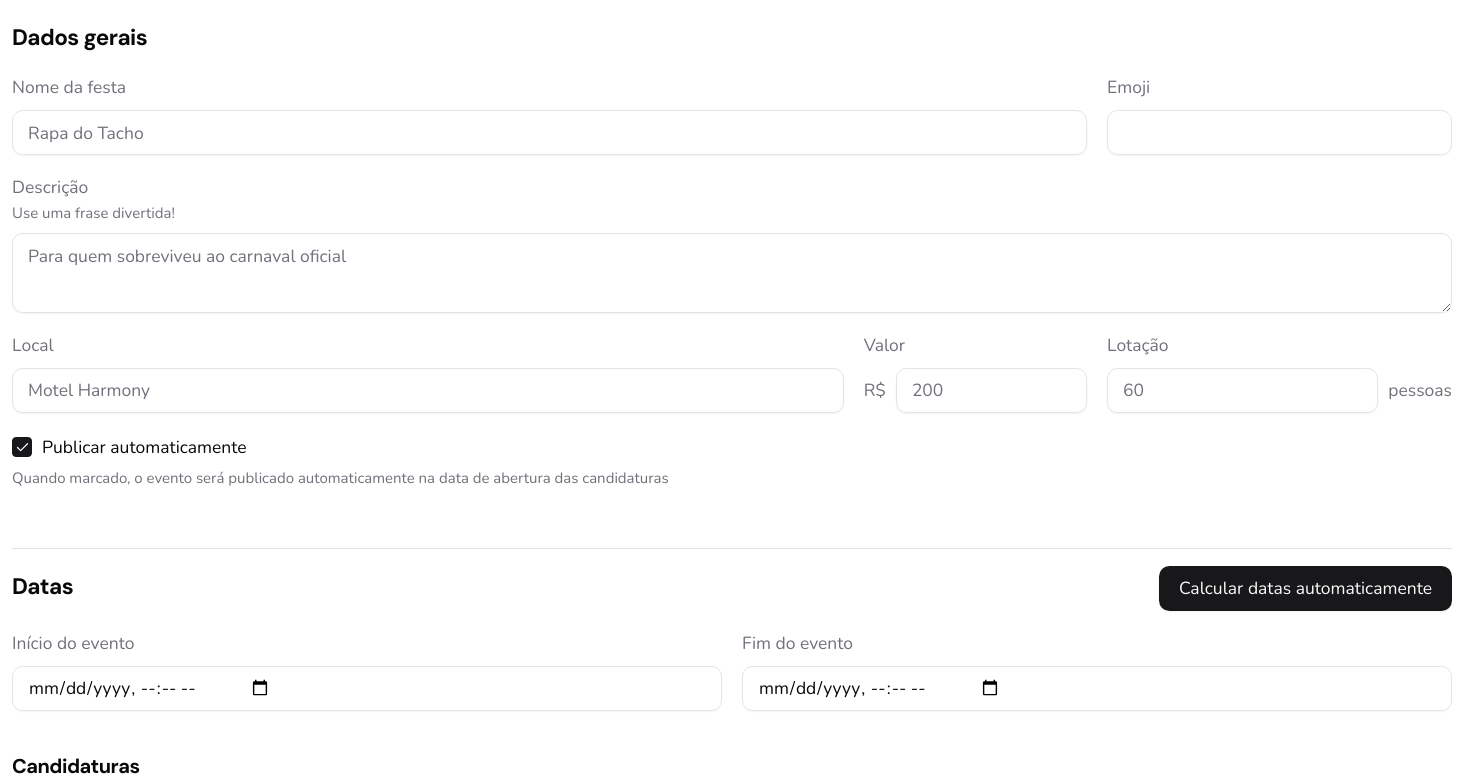
Test: EventForm › working the dates out › asks for a starting time before it works anything out
Click the button "Calcular datas automaticamente": (1305, 588) [1159,566,1452,610]
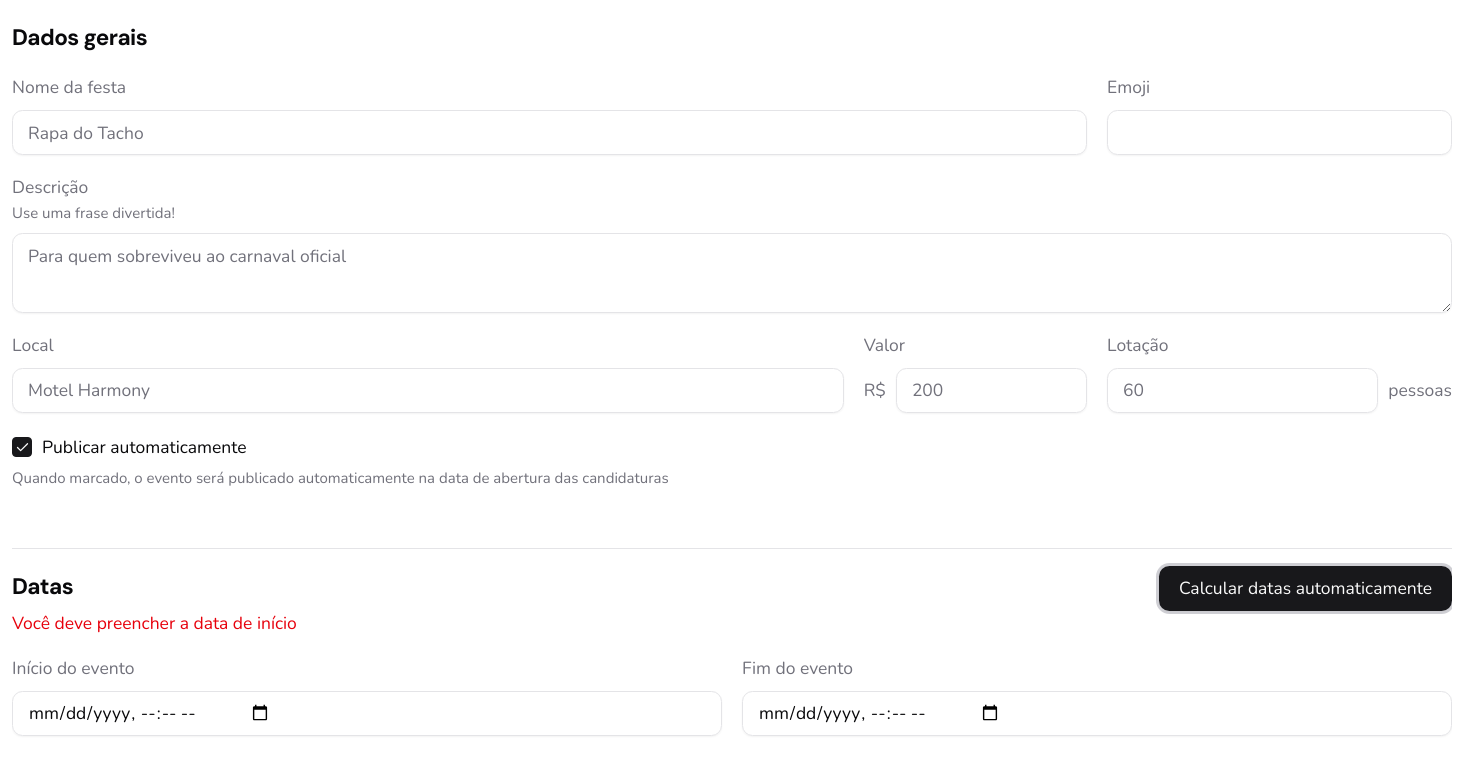
Expected: the field labelled "Fim do evento" is empty, [742,690,1452,736]
Expected: the message reads "Você deve preencher a data de início", [12,610,297,634]
